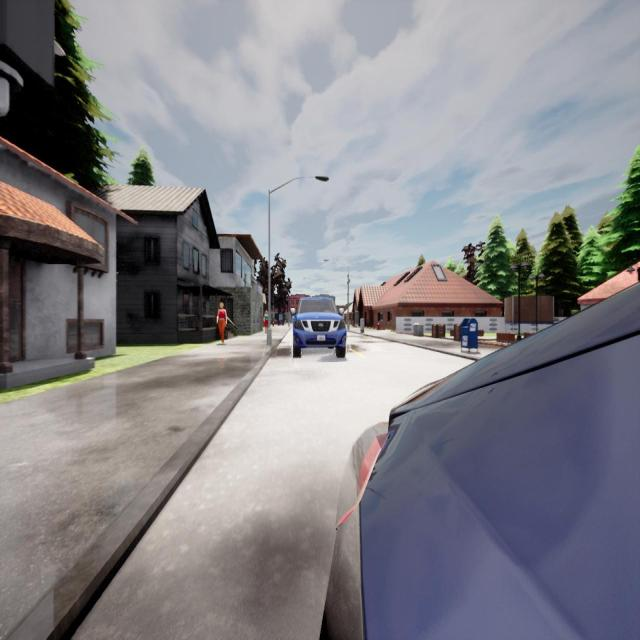Pedestrian: (216, 302, 226, 344), (264, 310, 268, 331)
Vehicle: (318, 288, 640, 640), (294, 297, 346, 357)
